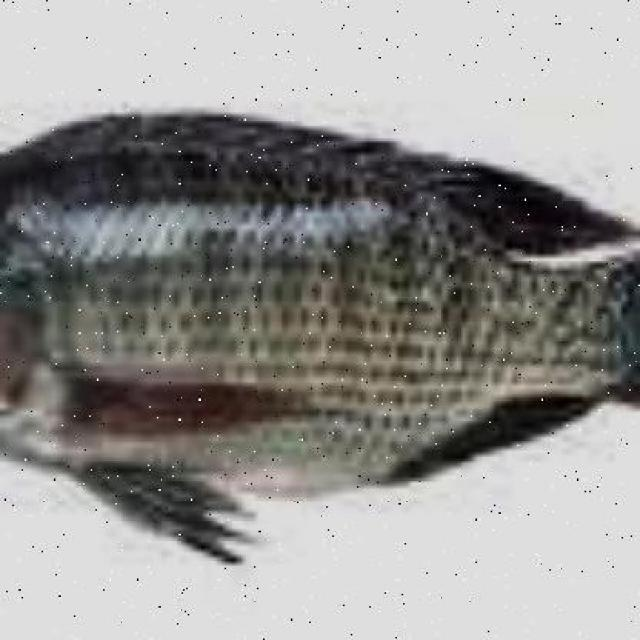ikan-pacu: (0, 115, 634, 537)
